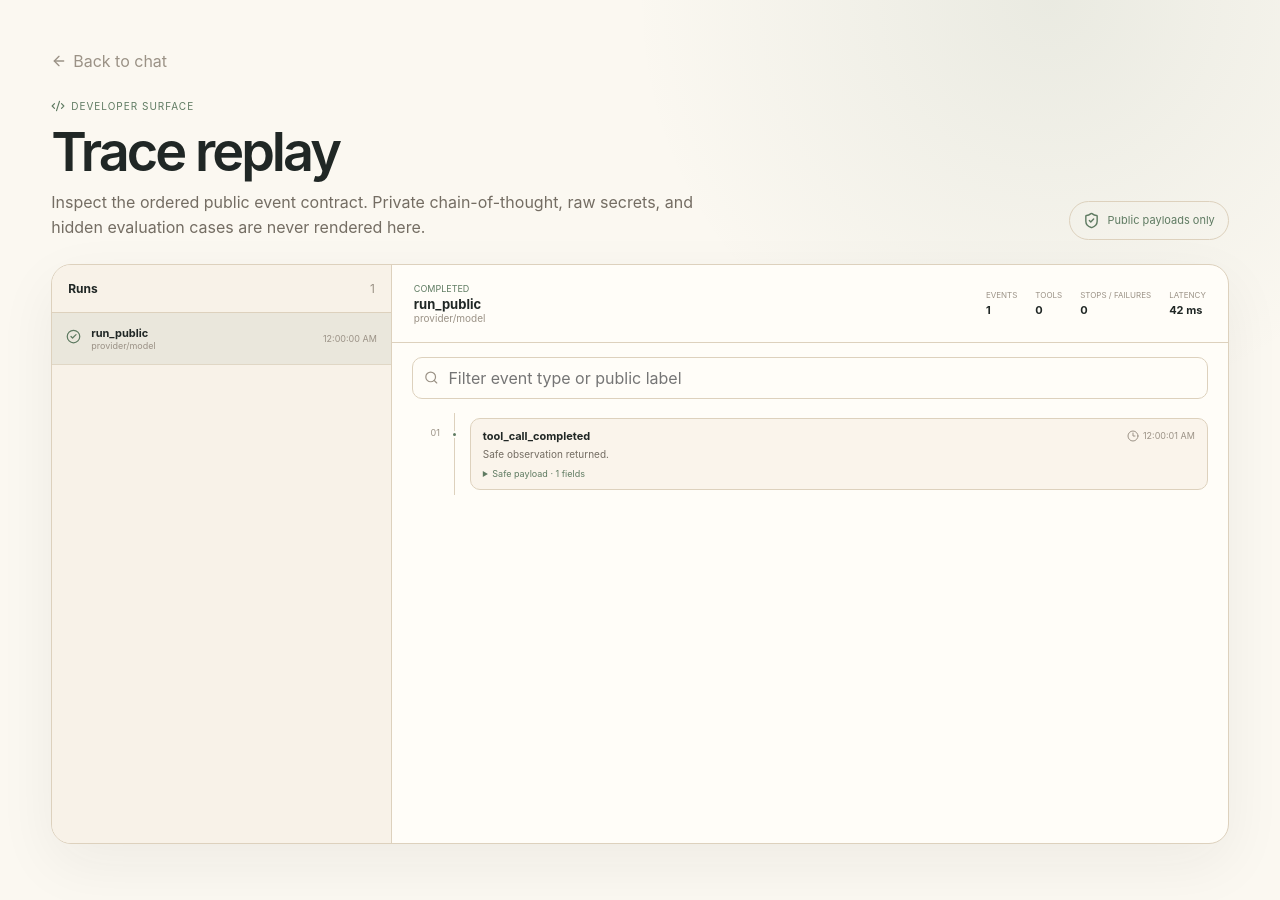
Test: TraceReplay › renders ordered public events and filters them without exposing absent private text
Expected: the text "Safe observation returned." is shown, [483, 448, 609, 460]
Type "no match" into the field with placeholder "Filter event type or public label" at (821, 378), box [446, 367, 1196, 389]
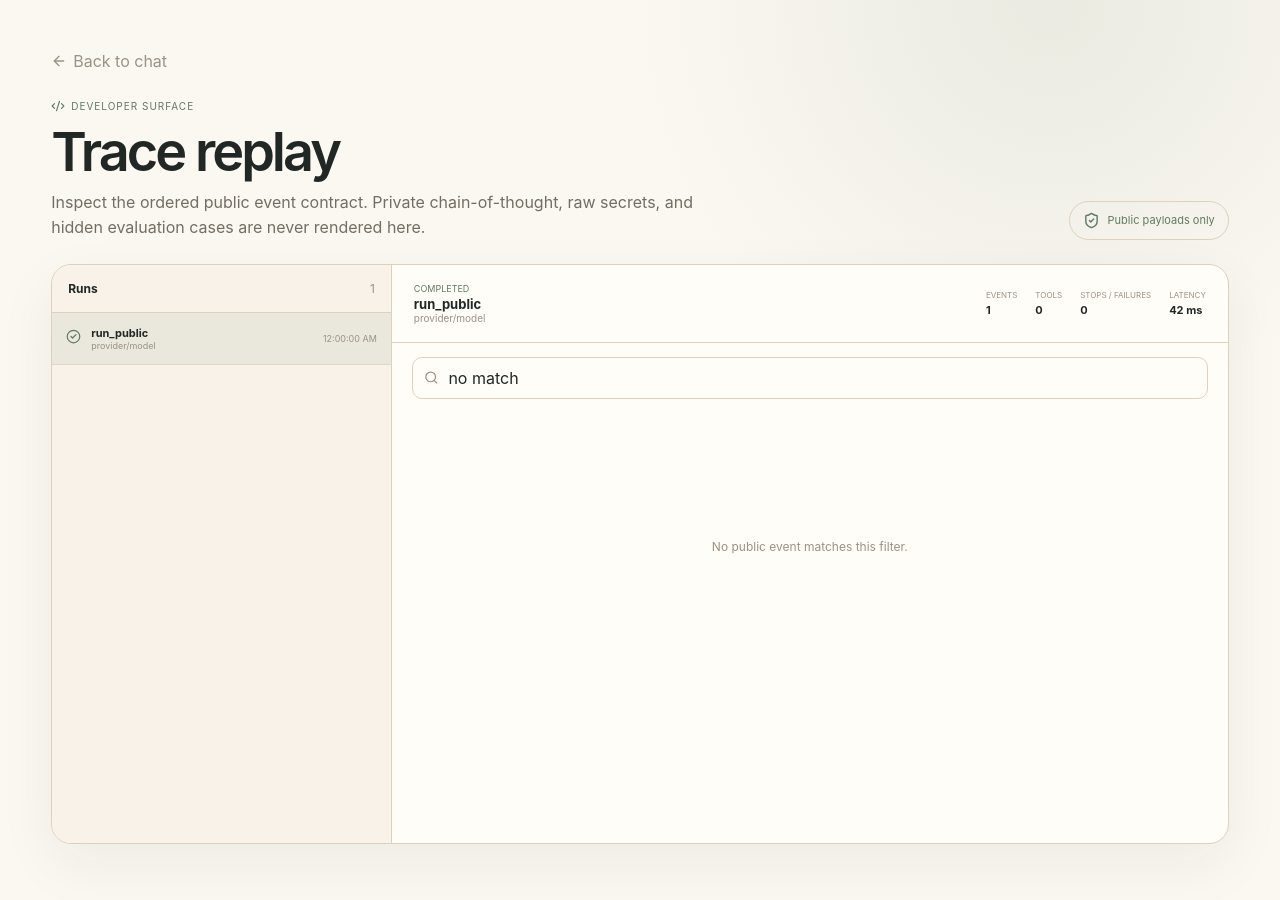
Expected: the text "No public event matches this filter." is shown, [712, 539, 908, 554]
